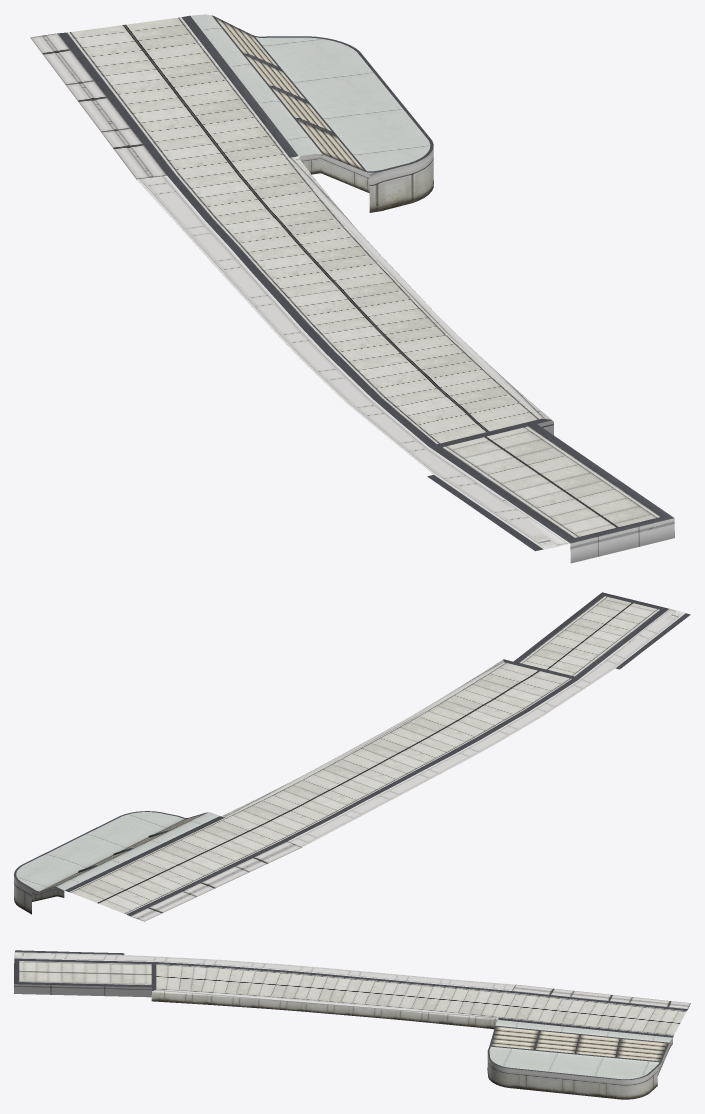
The model's file is STA20_StoreextloorB01.FBX.
3 renders of one model, top to bottom at view 1: azimuth 30°, elevation 25°; view 2: azimuth 150°, elevation 25°; view 3: azimuth 270°, elevation 25°, orthographic. The views are drawn at different scales.
Visible parts, largest first — view 1: STA20_StoreextloorB01; view 2: STA20_StoreextloorB01; view 3: STA20_StoreextloorB01.
Part boxes in pixels (box(x1,y1,x2,y2)): STA20_StoreextloorB01: box(30, 14, 674, 563); STA20_StoreextloorB01: box(14, 592, 690, 921); STA20_StoreextloorB01: box(14, 950, 690, 1099).
Size of the model in its own units: 26.24 by 5.14 by 71.33.
